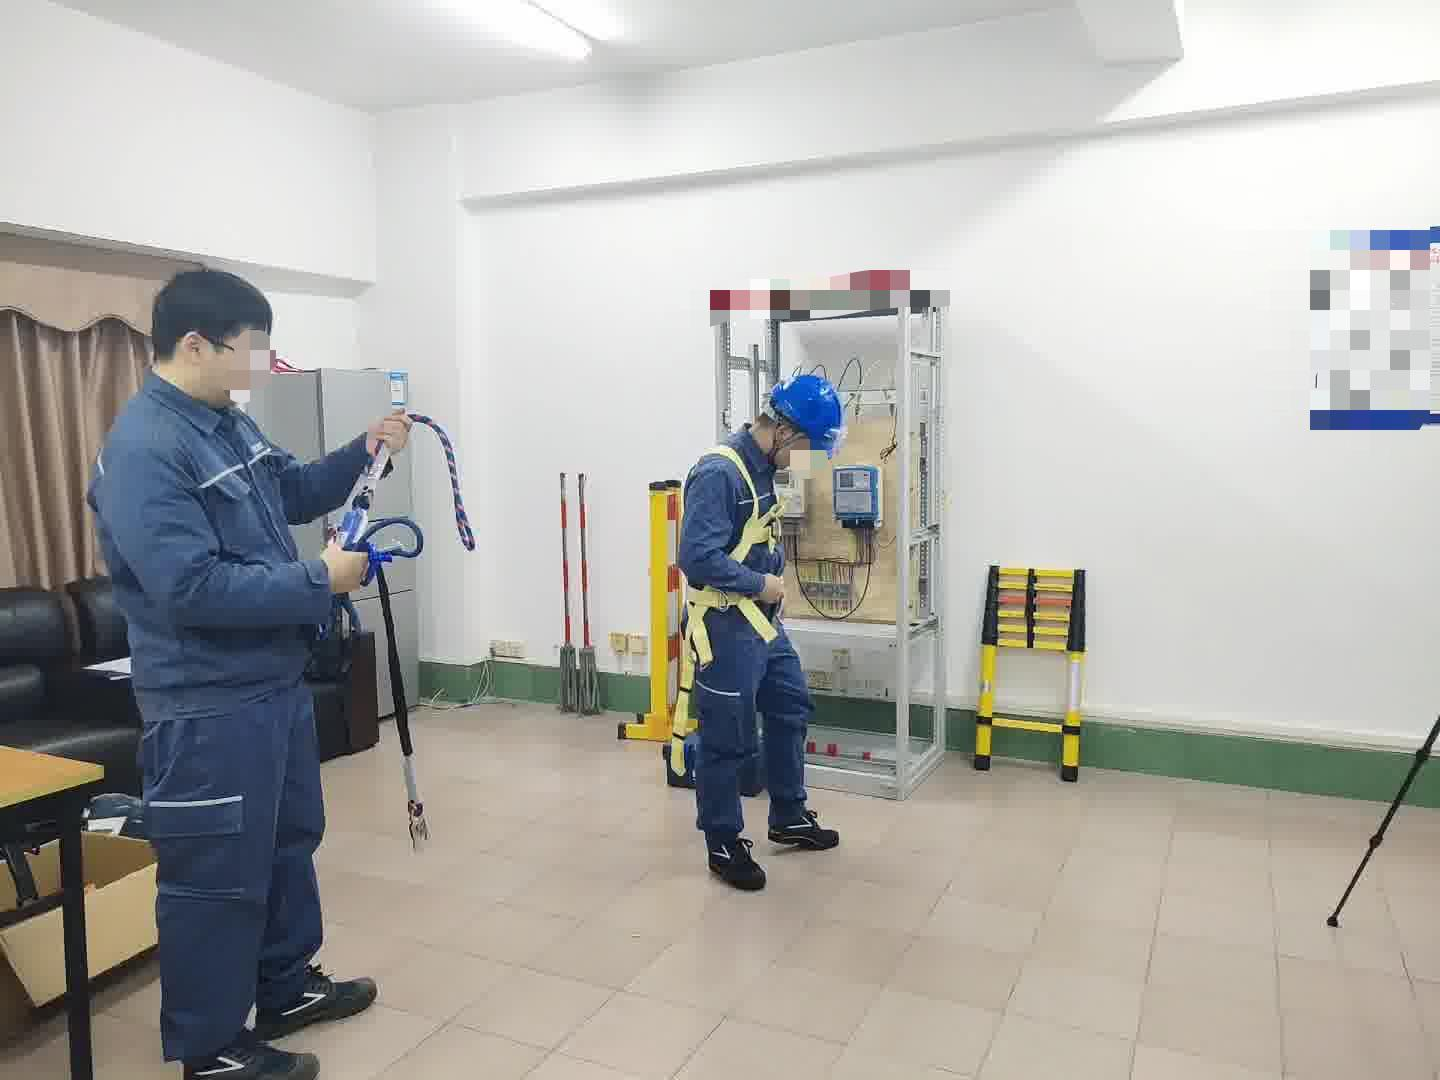halt: (769, 376, 847, 470)
inear: (769, 419, 806, 459)
noear: (173, 327, 227, 393)
unhalt: (149, 270, 279, 410)
